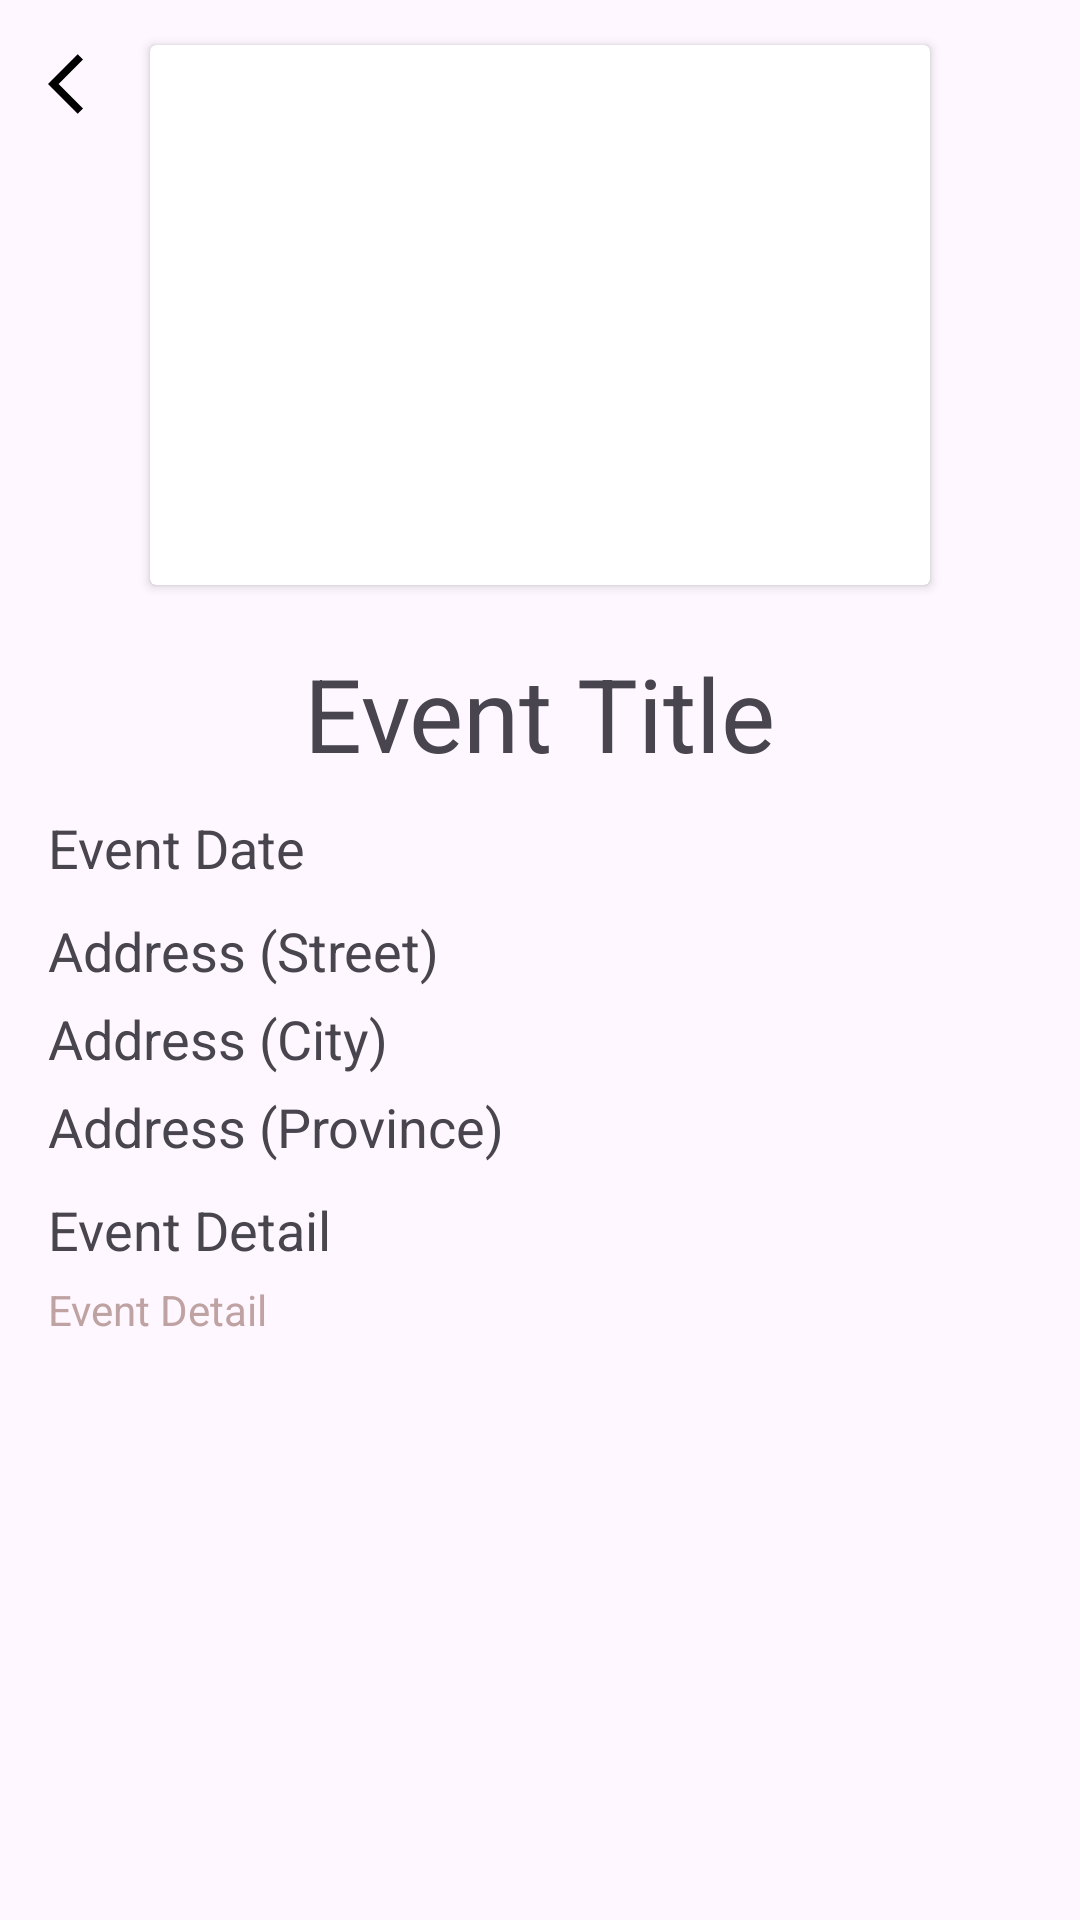

Screen size 1080px x 1920px. Icon name, then its center in pixels as (x,y):
back arrow: (65,84)
